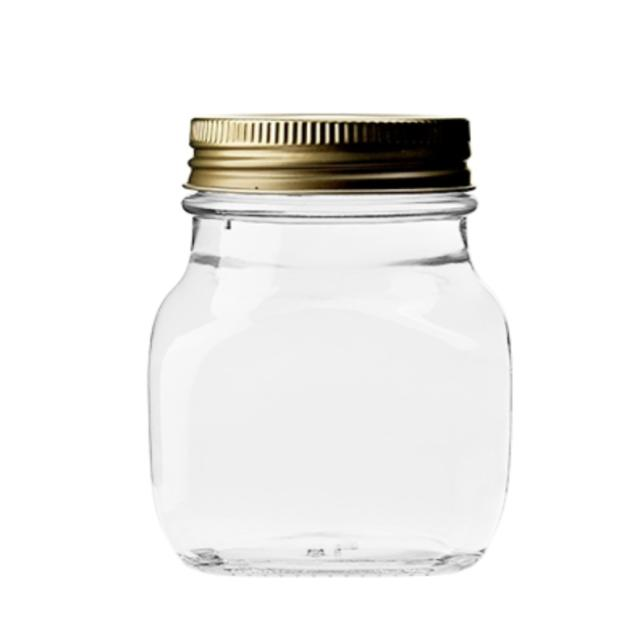recyclable: (133, 190, 524, 592)
